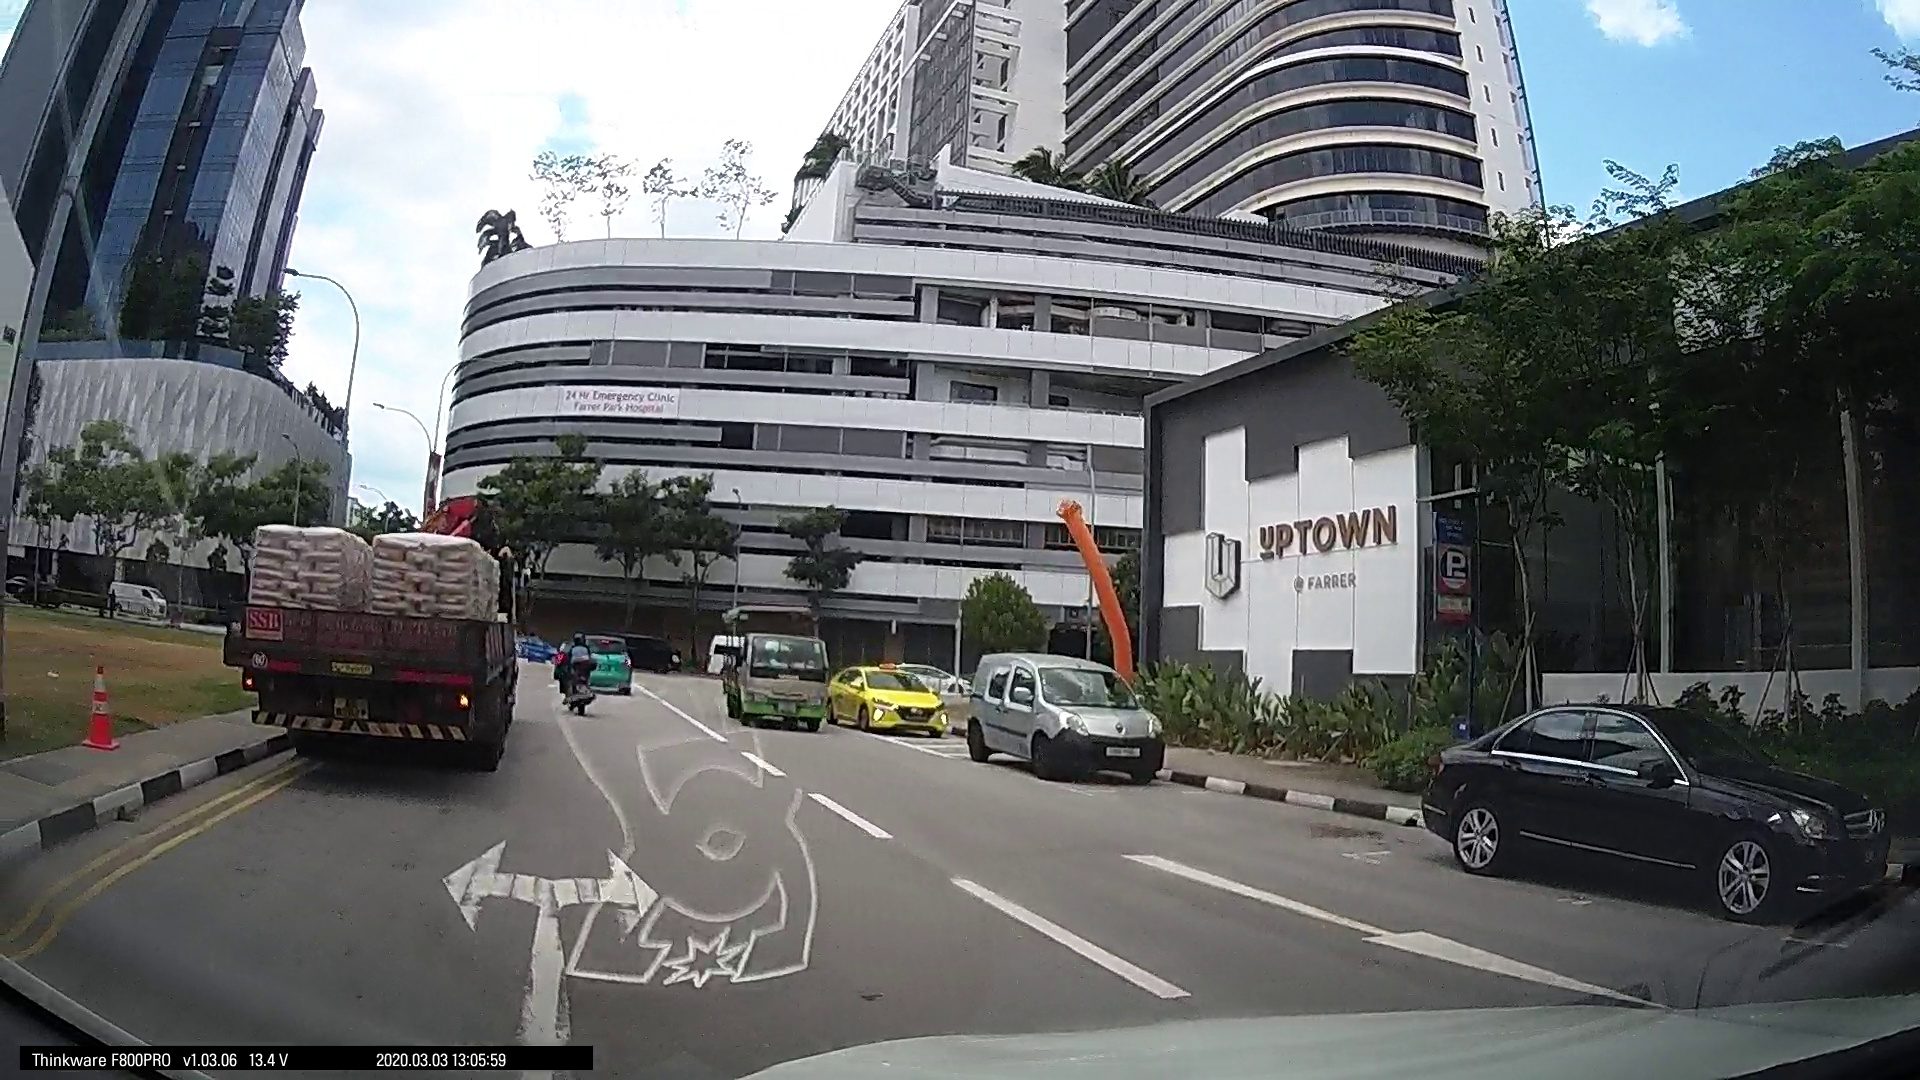Heavy Vehicle: (11, 179, 702, 934), (841, 564, 982, 717), (1251, 616, 1357, 717)
Light Vehicle: (1665, 667, 1913, 829), (709, 634, 881, 774), (1022, 625, 1065, 675), (1125, 634, 1166, 676)
